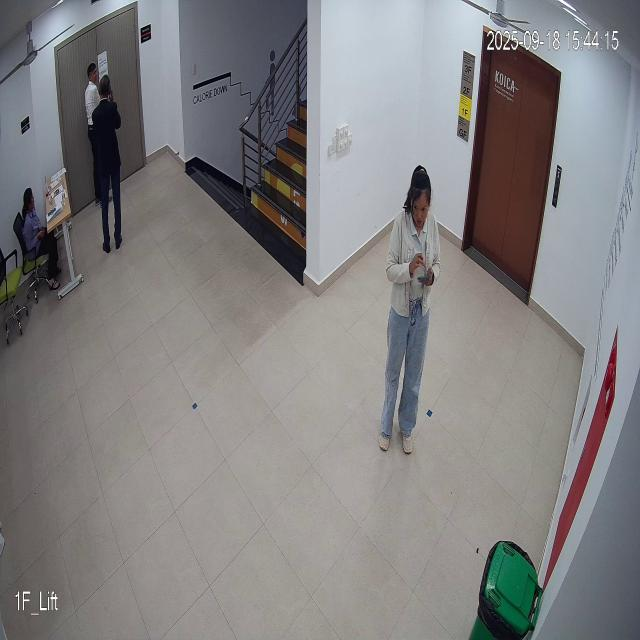face: (406, 166, 432, 232)
